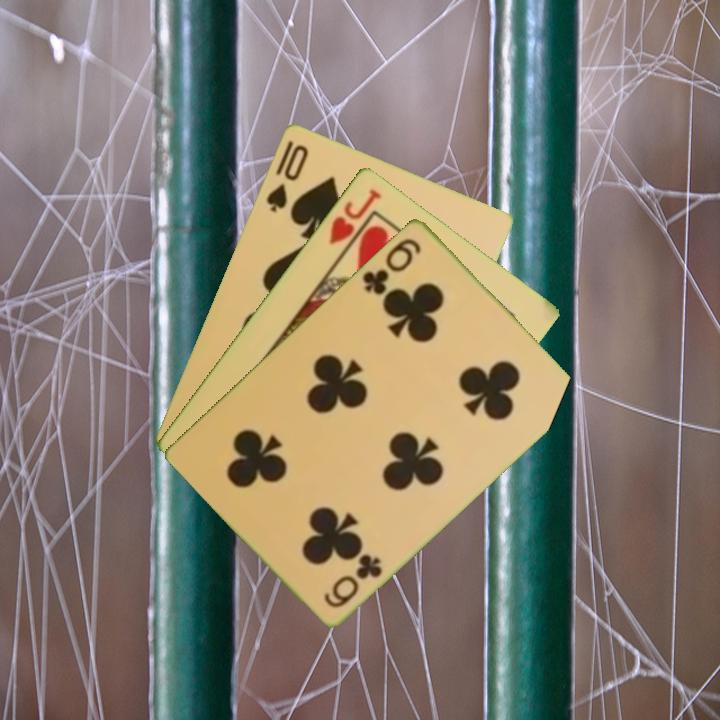10s: (262, 140, 311, 215)
6c: (359, 234, 424, 298), (320, 549, 385, 610)
Jh: (325, 184, 384, 260)
